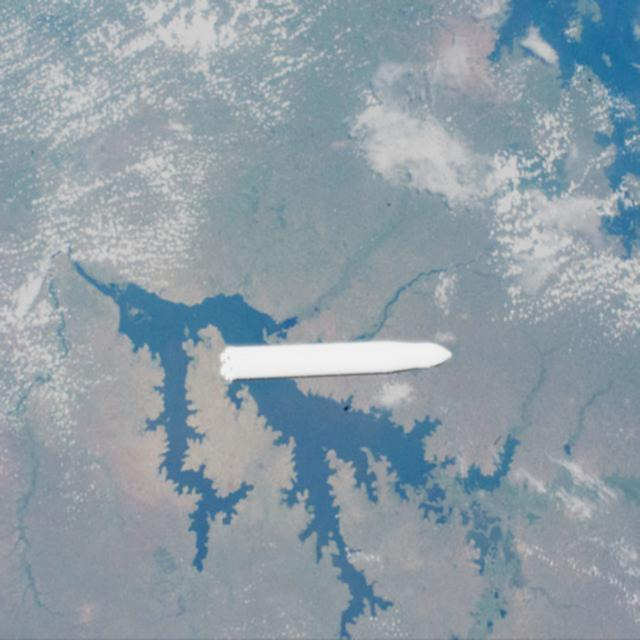rocket: (209, 332, 475, 383)
